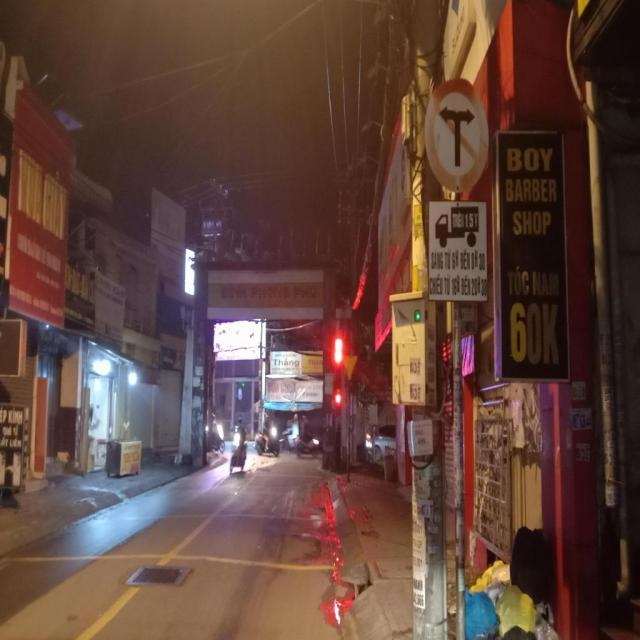cam_re_trai_va_phai: (424, 78, 489, 194)
khac: (428, 201, 489, 297)
